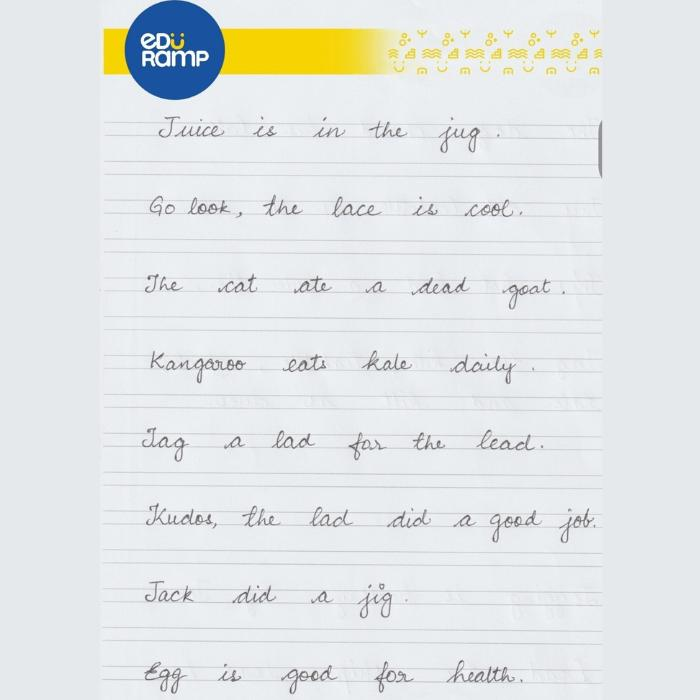text: (144, 499, 596, 546), (141, 271, 567, 312), (137, 423, 546, 464), (147, 345, 536, 387), (155, 111, 501, 154), (140, 658, 524, 696), (143, 575, 409, 620), (148, 192, 523, 222), (140, 47, 212, 73), (137, 29, 186, 52)
